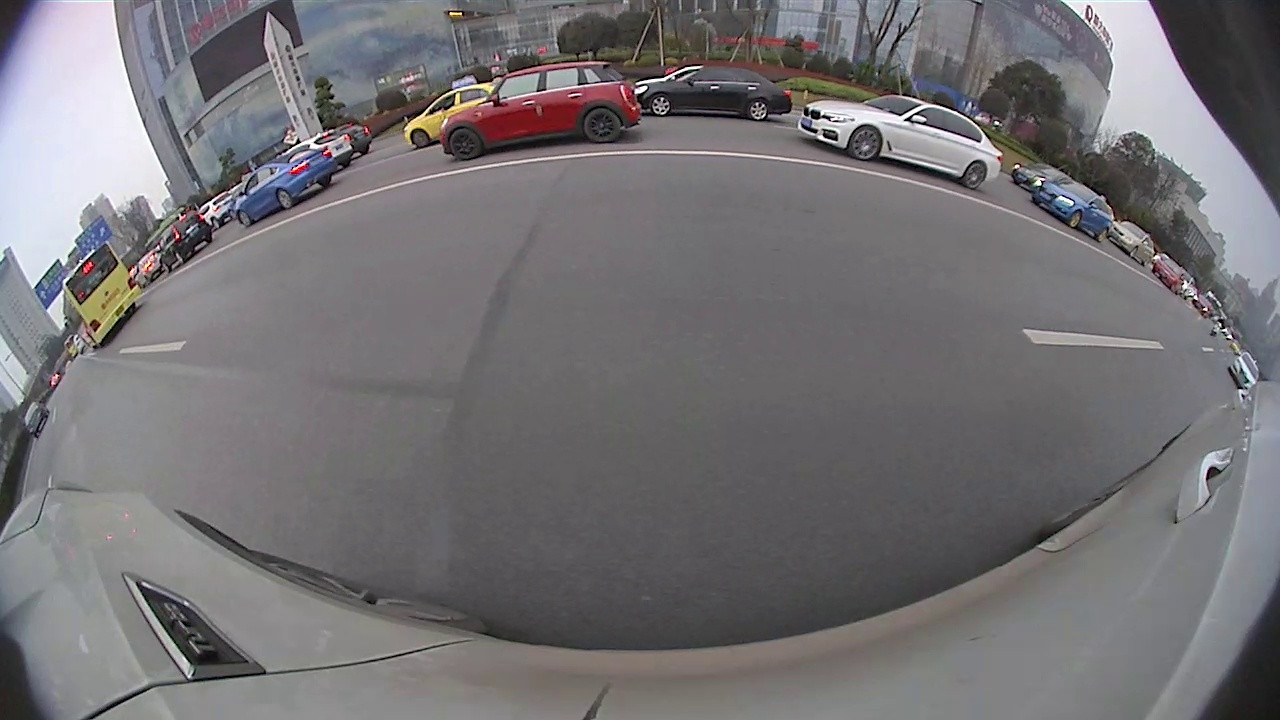bus: (64, 238, 140, 346)
car: (440, 60, 643, 162), (797, 94, 1002, 189), (633, 61, 793, 125), (233, 144, 335, 227), (401, 80, 498, 154), (1032, 177, 1113, 243), (301, 127, 354, 172), (1010, 159, 1064, 196), (346, 125, 370, 158)
front: (843, 123, 883, 166), (444, 123, 483, 164), (646, 95, 671, 118), (408, 125, 430, 149), (1066, 208, 1086, 231), (236, 209, 252, 230)
rear: (578, 100, 622, 144), (960, 159, 988, 192), (744, 97, 771, 127), (275, 186, 297, 209), (319, 172, 335, 194), (1095, 227, 1111, 245)
